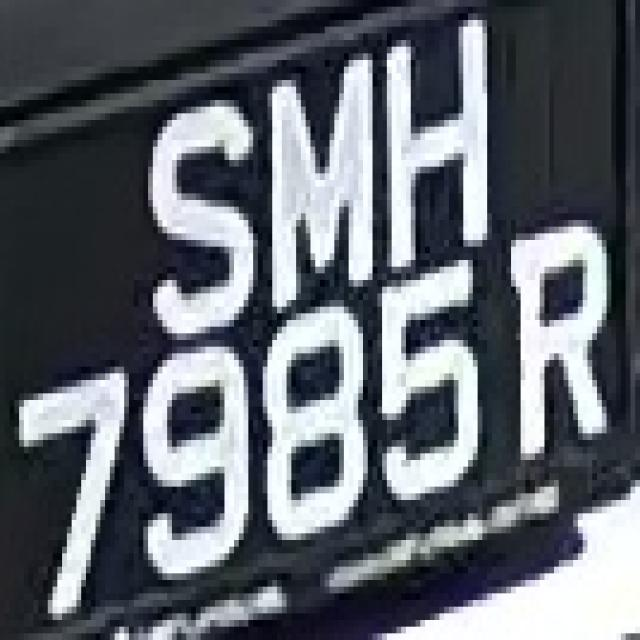5: (358, 247, 482, 513)
7: (14, 360, 129, 633)
8: (263, 280, 377, 553)
9: (138, 314, 262, 574)
H: (378, 7, 502, 240)
M: (272, 34, 378, 334)
R: (492, 187, 607, 473)
S: (143, 74, 253, 354)
